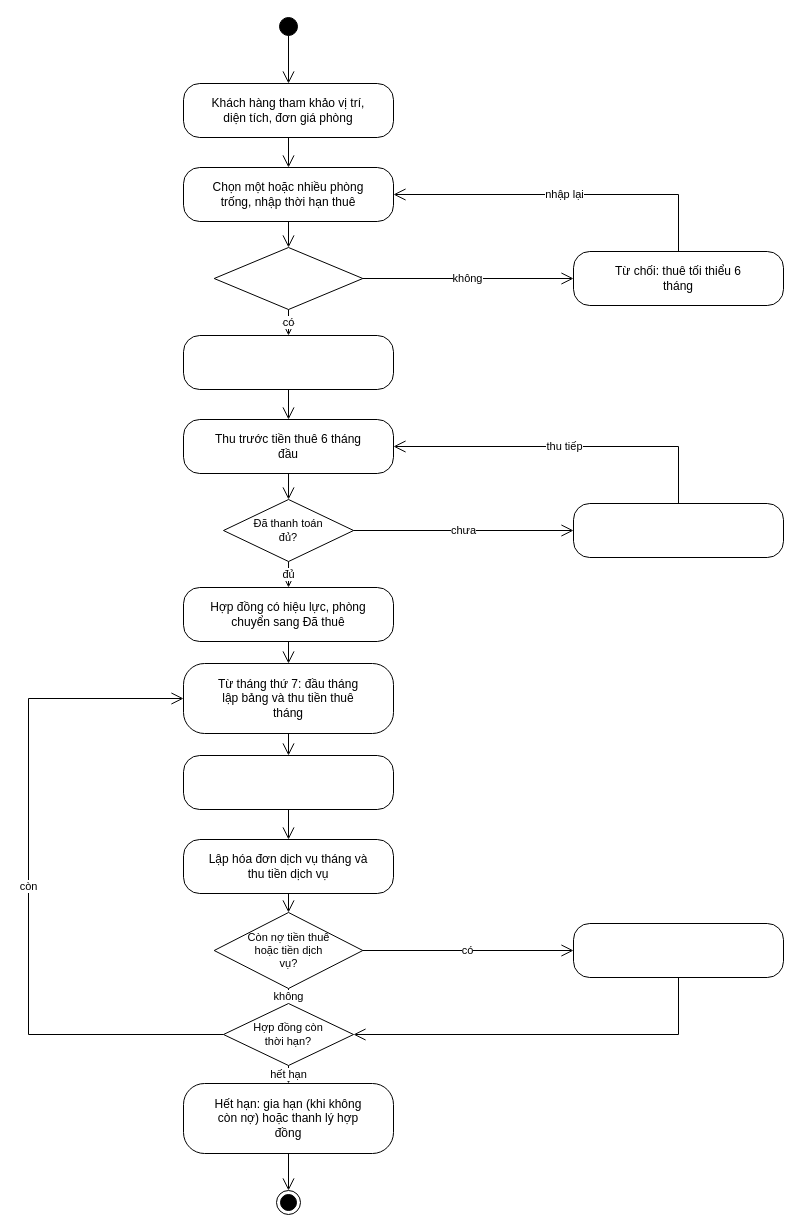
Some shapes in this 801 by 1232 pixel diagram are drawn without their labels. The centre of each missing label's shape, as x and y in pixels:
Cuối tháng: ghi chỉ số điện, nước, internet: pixel 288 782
Hợp đồng ở trạng thái Chờ thanh toán: pixel 678 530
Lập hợp đồng thuê và chi tiết từng phòng: pixel 288 362
Nhắc nợ, khóa chức năng gia hạn: pixel 678 950
Thời hạn thuê từ 6 tháng trở lên?: pixel 288 278
